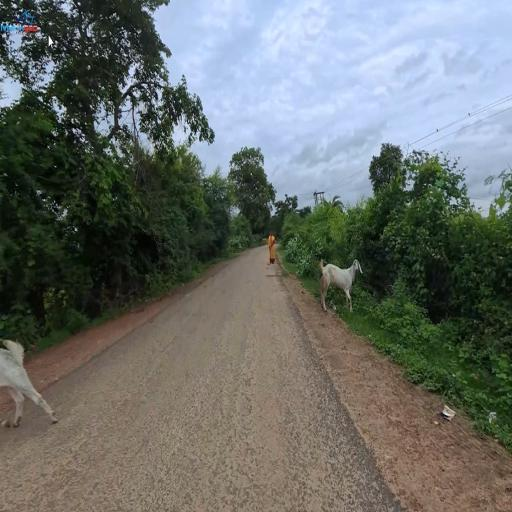ravelling: (211, 402, 319, 475)
